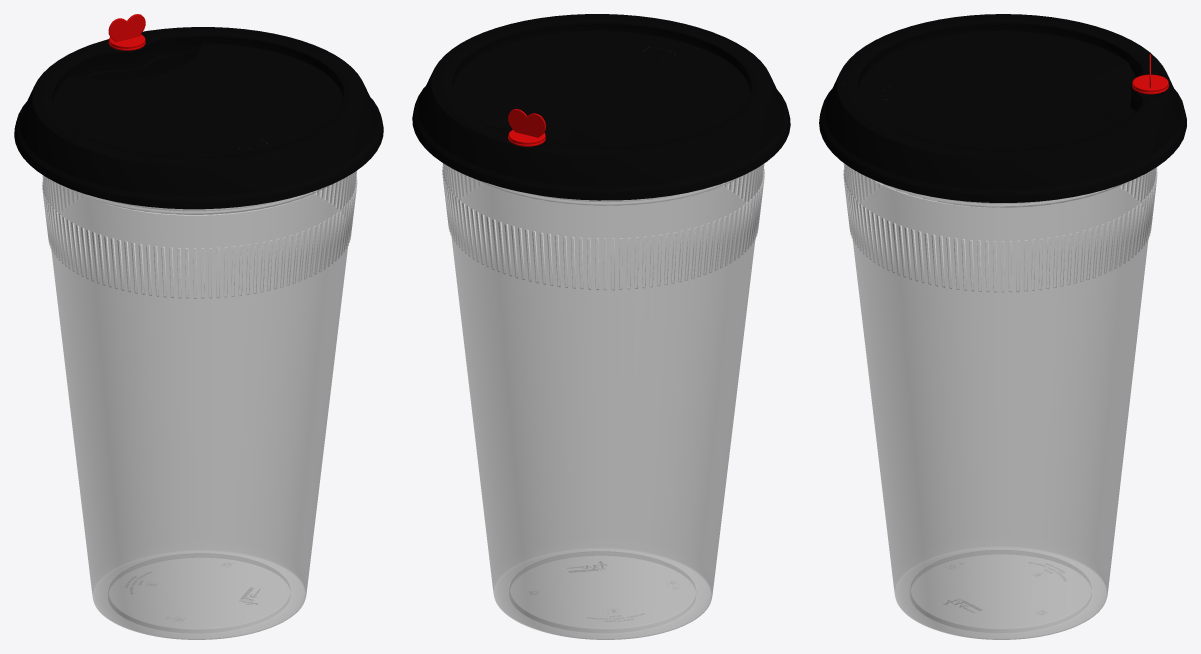
Rendered from 350_sipper_glass.glb.
The picture shows the model from 3 angles, left to right: view 1: azimuth 30°, elevation 25°; view 2: azimuth 150°, elevation 25°; view 3: azimuth 270°, elevation 25°; orthographic projection. The views are drawn at different scales.
Parts seen in each view (by area): view 1: meshes[0].002, meshes[0].003; view 2: meshes[0].002, meshes[0].003; view 3: meshes[0].002, meshes[0].003.
Boxes of the visible parts, x1=… form: meshes[0].002: x1=42, y1=170, x2=357, y2=639; meshes[0].003: x1=14, y1=14, x2=383, y2=209; meshes[0].002: x1=442, y1=163, x2=764, y2=639; meshes[0].003: x1=412, y1=14, x2=790, y2=200; meshes[0].002: x1=843, y1=163, x2=1157, y2=639; meshes[0].003: x1=819, y1=14, x2=1186, y2=202.
Bounding box in the file's own units: 0.0882 × 0.1373 × 0.0855.
6 materials, 3 textured.
